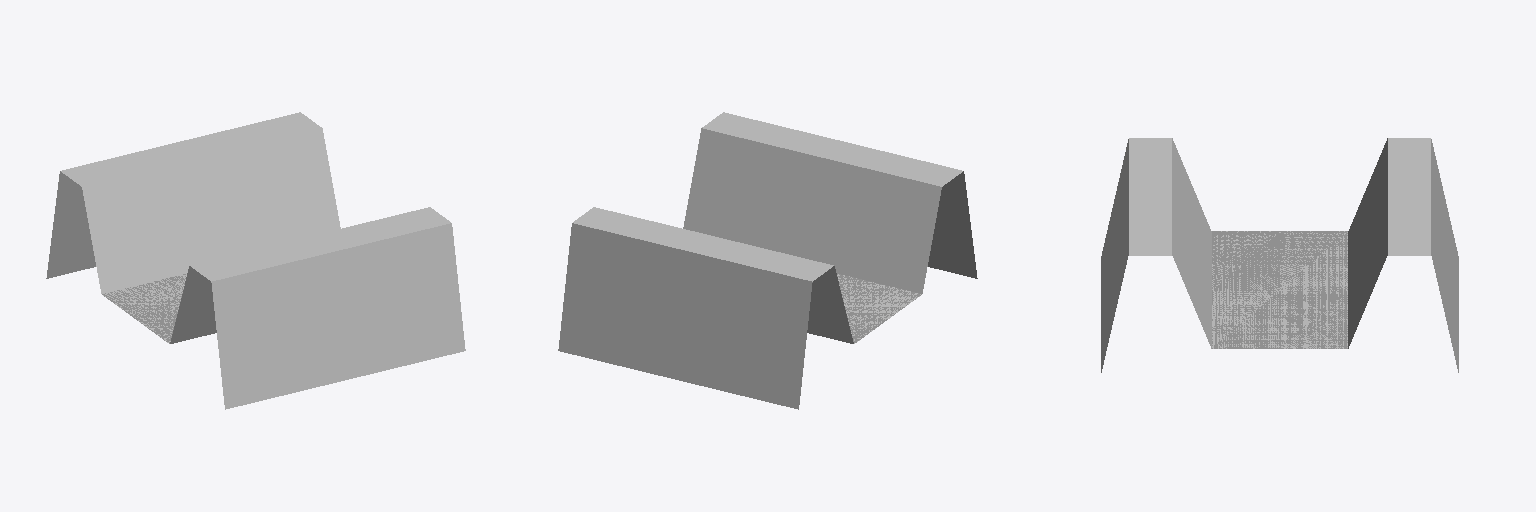
The model's file is TestTrack.obj.
3 views of the same model, side by side, from view 1: azimuth 30°, elevation 25°; view 2: azimuth 150°, elevation 25°; view 3: azimuth 270°, elevation 25° (orthographic).
Parts seen in each view (by area): view 1: Plane; view 2: Plane; view 3: Plane.
Boxes of the visible parts, x1=… form: Plane: x1=46, y1=112, x2=465, y2=409; Plane: x1=558, y1=112, x2=977, y2=409; Plane: x1=1101, y1=138, x2=1458, y2=372.
Bounding box in the file's own units: 8.12 × 3.81 × 10.44.